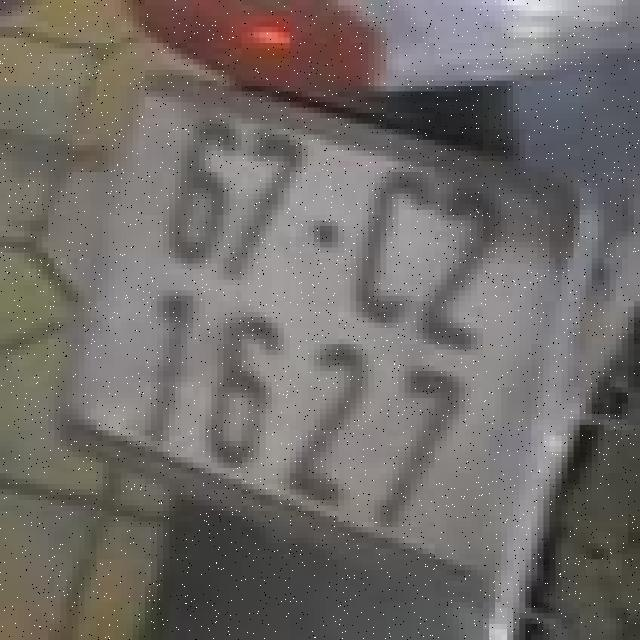1: (117, 280, 214, 457)
2: (405, 179, 536, 368), (274, 324, 403, 515)
6: (194, 299, 302, 482), (151, 106, 256, 281)
7: (342, 351, 487, 543), (210, 122, 320, 294)
C: (340, 158, 459, 342)
